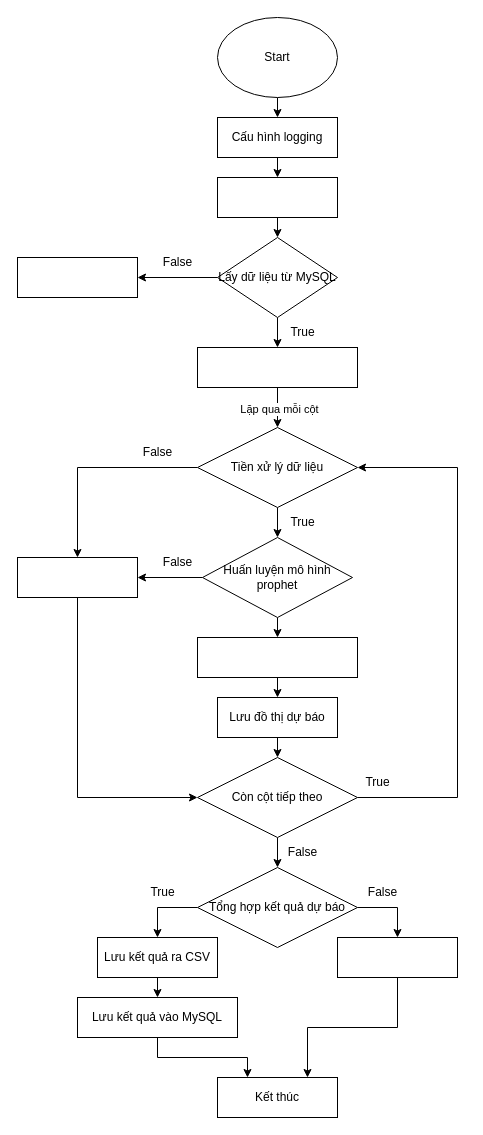
The diagram is 483 pixels wide and 1135 high, and some of its shapes have lost their labels. The centre of each missing label's shape, as x and y in pixels:
"Bỏ qua cột này" goes at (x=77, y=577).
"Dự báo 24 giờ tiếp theo" goes at (x=277, y=657).
"Ghi log cảnh báo" goes at (x=397, y=957).
"Ghi log lỗi và kết thúc" goes at (x=77, y=277).
"Kết nối MySQL" goes at (x=277, y=197).
"xử lý dự báo cho mỗi cột" goes at (x=277, y=367).
